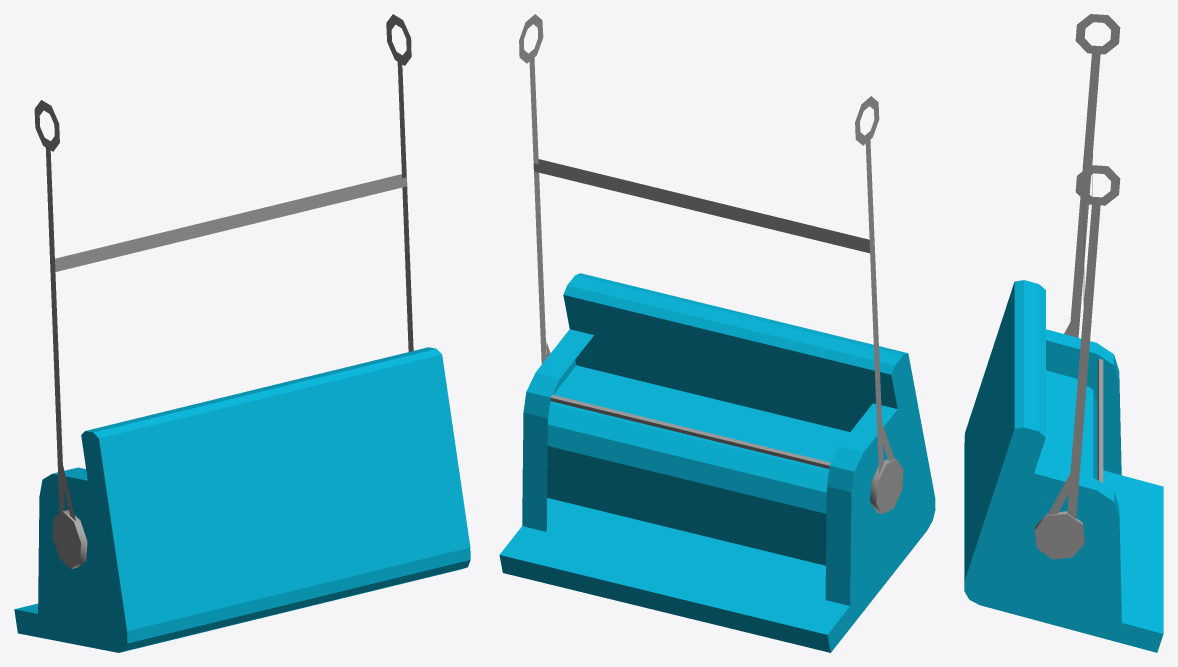
Rendered from Chair_11.fbx.
3 renders of one model, left to right at view 1: azimuth 30°, elevation 25°; view 2: azimuth 150°, elevation 25°; view 3: azimuth 270°, elevation 25°, orthographic. The views are drawn at different scales.
Visible parts, largest first — view 1: chair_11, metal_12; view 2: chair_11, metal_12; view 3: chair_11, metal_12.
Boxes of the visible parts, x1,y1,x2,y2 form: chair_11: (14,347,470,652); metal_12: (34,14,413,568); chair_11: (499,273,935,652); metal_12: (519,14,903,513); chair_11: (964,280,1163,652); metal_12: (1034,14,1120,559).
Bounding box in the file's own units: 200 × 298 × 110.
